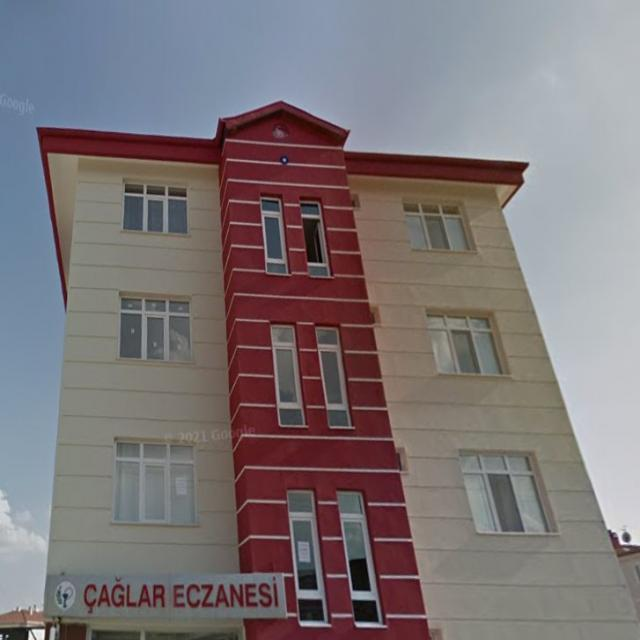Building: (36, 100, 640, 640)
